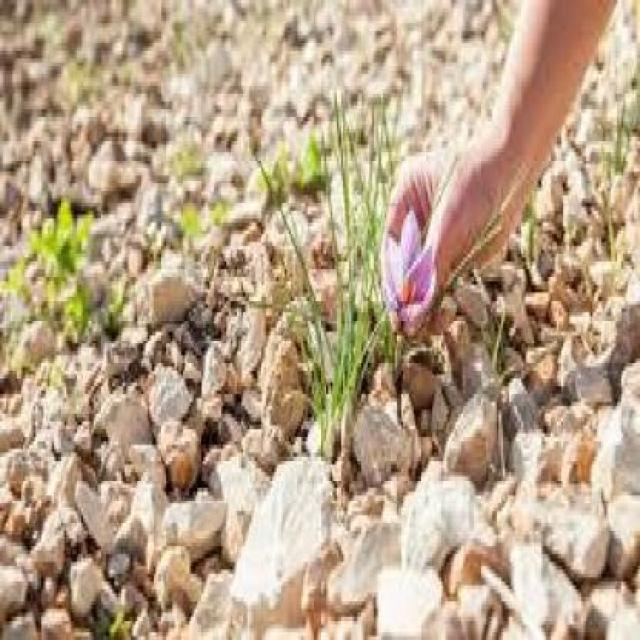Flower: (378, 211, 436, 320)
stigma: (394, 279, 417, 310)
